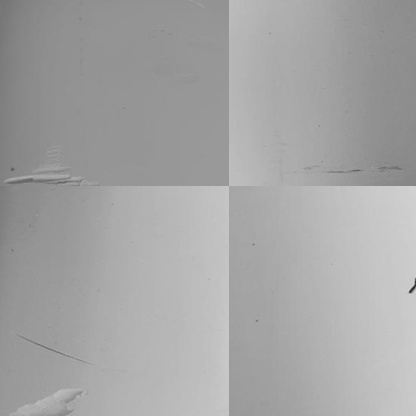sunshang: (2, 151, 97, 189), (14, 328, 95, 365), (5, 383, 89, 416)
